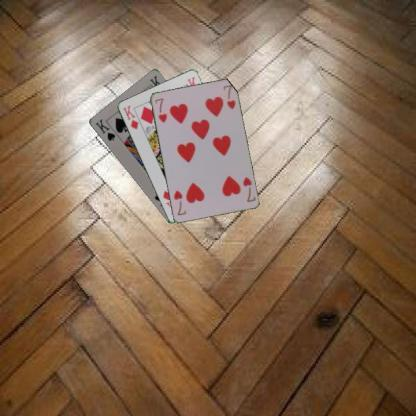7h: (240, 174, 257, 204), (152, 95, 168, 124)
Kd: (120, 103, 139, 130)
Ks: (93, 116, 116, 142)
